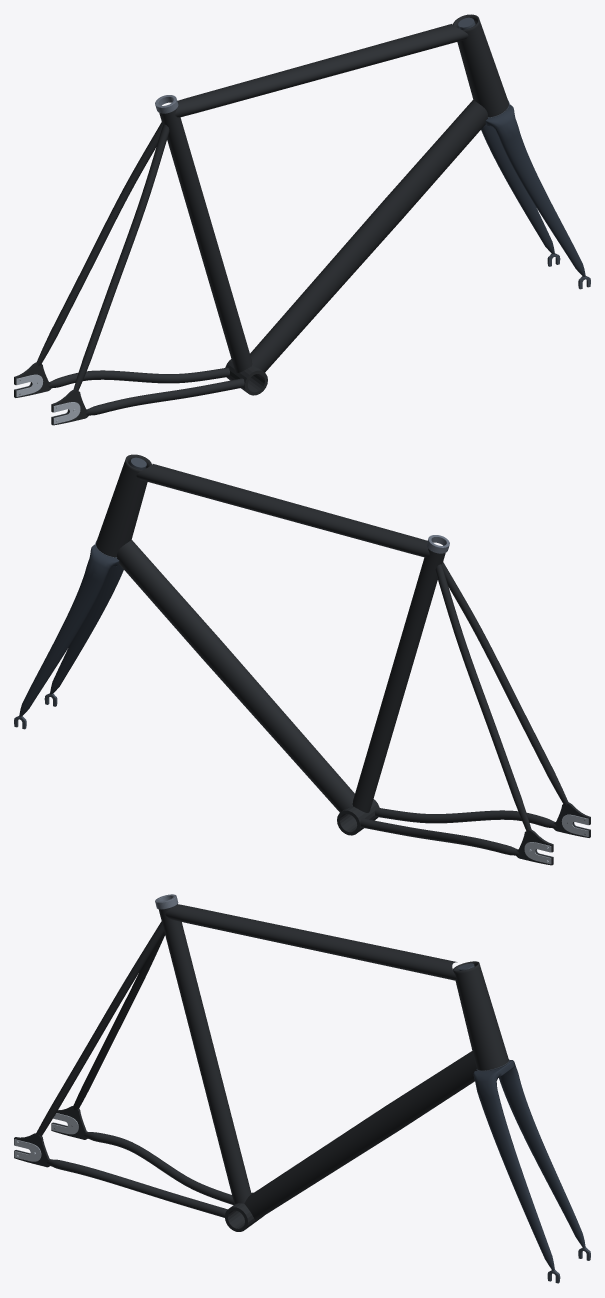
File: 8bar-krzberg-v8-xl.glb
The picture shows the model from 3 angles, top to bottom: view 1: azimuth 30°, elevation 25°; view 2: azimuth 150°, elevation 25°; view 3: azimuth 330°, elevation 25°; orthographic projection.
Parts seen in each view (by area): view 1: paint_down, paint_top, paint_seat, paint_head, fork_blade_1, paint_seatstay_1, paint_seatstay_-1, fork_blade_-1, paint_chainstay_-1, paint_chainstay_1, paint_bottom_bracket, fork_crown; view 2: paint_down, paint_top, paint_seat, paint_head, fork_blade_-1, paint_seatstay_-1, paint_seatstay_1, fork_blade_1, paint_chainstay_1, paint_chainstay_-1, paint_bottom_bracket, fork_crown; view 3: paint_down, paint_seat, paint_top, paint_head, fork_blade_1, fork_blade_-1, paint_seatstay_1, paint_chainstay_1, paint_chainstay_-1, paint_seatstay_-1, fork_crown, paint_bottom_bracket.
Boxes of the visible parts, left/top/right/bottom form: paint_down: left=250, top=100, right=488, bottom=372; paint_top: left=175, top=24, right=468, bottom=117; paint_seat: left=159, top=108, right=252, bottom=372; paint_head: left=453, top=14, right=508, bottom=117; fork_blade_1: left=498, top=127, right=585, bottom=276; paint_seatstay_1: left=73, top=124, right=169, bottom=390; paint_seatstay_-1: left=36, top=122, right=163, bottom=365; fork_blade_-1: left=481, top=124, right=554, bottom=254; paint_chainstay_-1: left=48, top=367, right=229, bottom=388; paint_chainstay_1: left=85, top=378, right=244, bottom=415; paint_bottom_bracket: left=225, top=359, right=267, bottom=395; fork_crown: left=485, top=104, right=518, bottom=136; paint_down: left=117, top=540, right=354, bottom=812; paint_top: left=136, top=464, right=429, bottom=557; paint_seat: left=352, top=548, right=445, bottom=812; paint_head: left=96, top=454, right=151, bottom=557; fork_blade_-1: left=19, top=567, right=106, bottom=716; paint_seatstay_-1: left=435, top=564, right=531, bottom=830; paint_seatstay_1: left=441, top=562, right=568, bottom=806; fork_blade_1: left=50, top=564, right=123, bottom=694; paint_chainstay_1: left=375, top=807, right=556, bottom=828; paint_chainstay_-1: left=360, top=818, right=519, bottom=855; paint_bottom_bracket: left=337, top=799, right=379, bottom=835; fork_crown: left=86, top=544, right=119, bottom=576; paint_down: left=244, top=1051, right=476, bottom=1220; paint_seat: left=158, top=907, right=251, bottom=1204; paint_top: left=165, top=904, right=457, bottom=980; paint_head: left=453, top=961, right=508, bottom=1070; fork_blade_1: left=477, top=1089, right=554, bottom=1270; fork_blade_-1: left=499, top=1073, right=585, bottom=1248; paint_seatstay_1: left=36, top=921, right=164, bottom=1136; paint_chainstay_1: left=47, top=1159, right=227, bottom=1217; paint_chainstay_-1: left=84, top=1132, right=234, bottom=1204; paint_seatstay_-1: left=73, top=932, right=164, bottom=1109; fork_crown: left=473, top=1060, right=518, bottom=1092; paint_bottom_bracket: left=225, top=1192, right=263, bottom=1231.
Size of the model in its own units: 1.07 by 0.5939 by 0.1464.
